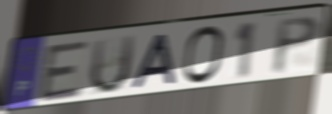1: (233, 20, 257, 82)
A: (128, 32, 178, 92)
E: (37, 38, 91, 105)
O: (181, 24, 226, 87)
P: (271, 13, 323, 77)
U: (87, 33, 138, 97)
